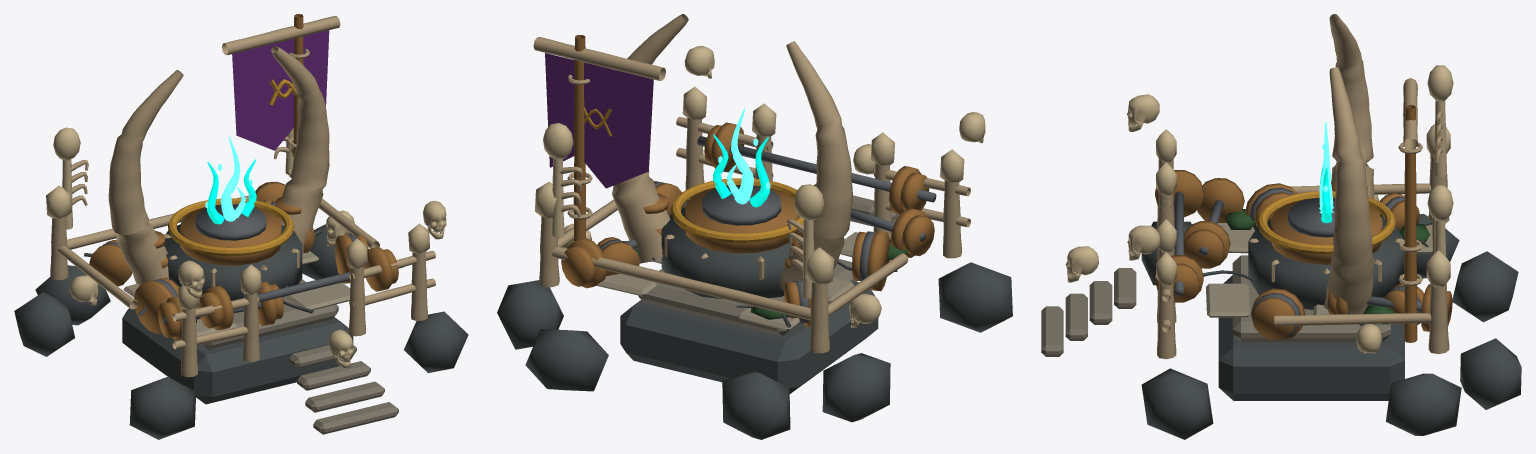
The model's file is strength-altar-v007.glb.
3 views of the same model, side by side, from view 1: azimuth 30°, elevation 25°; view 2: azimuth 150°, elevation 25°; view 3: azimuth 270°, elevation 25° (orthographic). The views are drawn at different scales.
Visible parts, largest first — view 1: Square cliff foundation, Strength altar tusk L, Torn purple strength standard, Strength altar tusk R, Bone altar dais, Cliff break rock 1, Cliff break rock 3, Cliff break rock 2, Bronze soulfire brazier, Strength altar engraved dais ring, Cracked training court, Dark brazier well (+44 smaller); view 2: Square cliff foundation, Torn purple strength standard, Strength altar tusk L, Bone altar dais, Strength altar tusk R, Cliff break rock 1, Cliff break rock 6, Cliff break rock 5, Cliff break rock 3, Cliff break rock 4, Cracked training court, Bone rear rail 0.68 (+42 smaller); view 3: Square cliff foundation, Strength altar tusk R, Bone altar dais, Cliff break rock 4, Cliff break rock 2, Cliff break rock 6, Strength altar tusk L, Cliff break rock 5, Cracked training court, Strength standard pole, Strength altar engraved dais ring, Bronze soulfire brazier (+34 smaller).
Boxes of the visible parts, x1,y1,x2,y2 form: Square cliff foundation: (122,308,353,404); Strength altar tusk L: (108,70,183,285); Torn purple strength standard: (232,30,329,150); Strength altar tusk R: (271,46,329,253); Bone altar dais: (164,224,302,300); Cliff break rock 1: (129,377,196,439); Cliff break rock 3: (14,292,74,356); Cliff break rock 2: (404,311,468,373); Bronze soulfire brazier: (180,204,281,265); Strength altar engraved dais ring: (168,198,293,255); Cracked training court: (195,279,338,349); Dark brazier well: (195,204,266,240); Square cliff foundation: (620,282,878,393); Torn purple strength standard: (545,53,653,188); Strength altar tusk L: (779,41,852,291); Bone altar dais: (661,207,801,299); Strength altar tusk R: (612,14,688,263); Cliff break rock 1: (938,262,1012,332); Cliff break rock 6: (525,329,608,391); Cliff break rock 5: (722,370,790,439); Cliff break rock 3: (822,353,890,422); Cliff break rock 4: (497,280,563,349); Cracked training court: (638,259,857,336); Bone rear rail 0.68: (552,246,810,320); Square cliff foundation: (1218,275,1404,400); Strength altar tusk R: (1323,67,1374,314); Bone altar dais: (1248,219,1404,309); Cliff break rock 4: (1386,373,1461,435); Cliff break rock 2: (1141,368,1213,439); Cliff break rock 6: (1460,338,1521,409); Strength altar tusk L: (1329,14,1374,198); Cliff break rock 5: (1452,251,1518,322); Cracked training court: (1232,255,1390,341); Strength standard pole: (1404,105,1417,342); Strength altar engraved dais ring: (1257,191,1395,254); Bronze soulfire brazier: (1270,198,1382,264).
Bounding box in the file's own units: 2.33 × 1.92 × 2.57.
